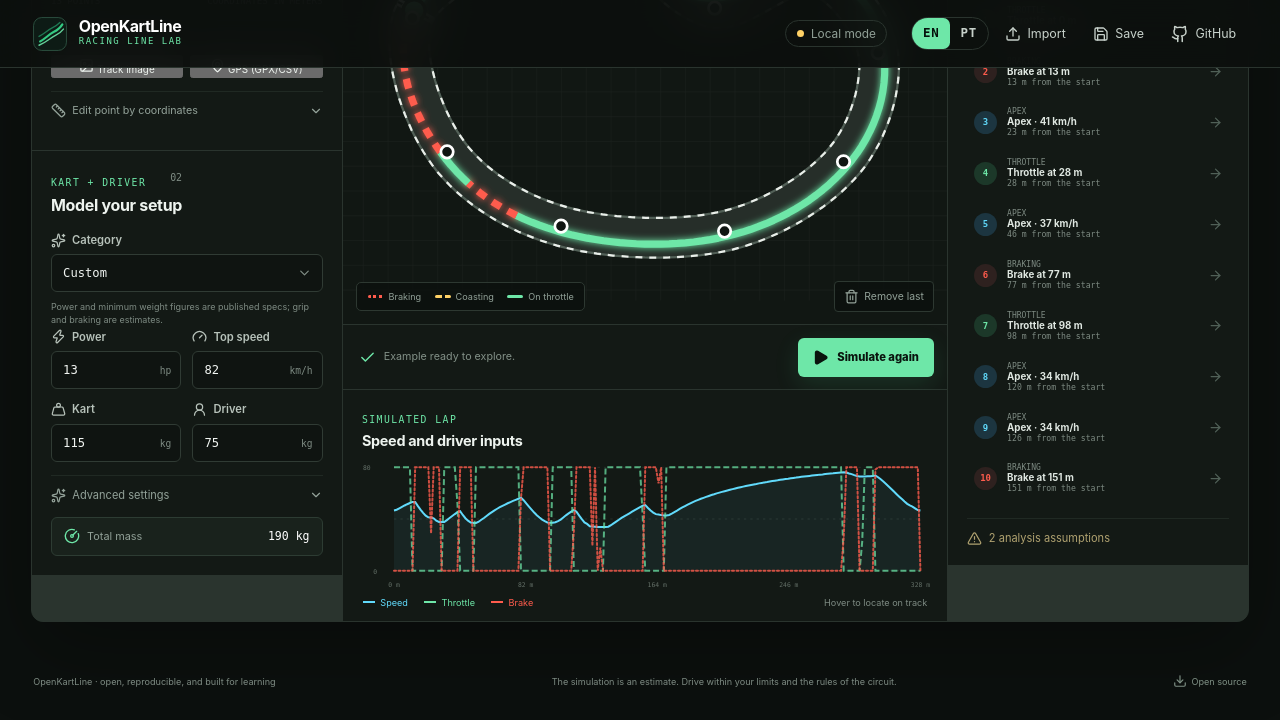
Test: OpenKartLine application › starts with a useful local demo and recalculates edited kart inputs
The width and height of the screenshot is (1280, 720).
(page scrolled)
Check: the text "Local mode" is shown, box x1=785 y1=20 x2=887 y2=47
Replace the text in the number field labelled "Power hp" with "20" at (116, 370), box x1=51 y1=351 x2=181 y2=389
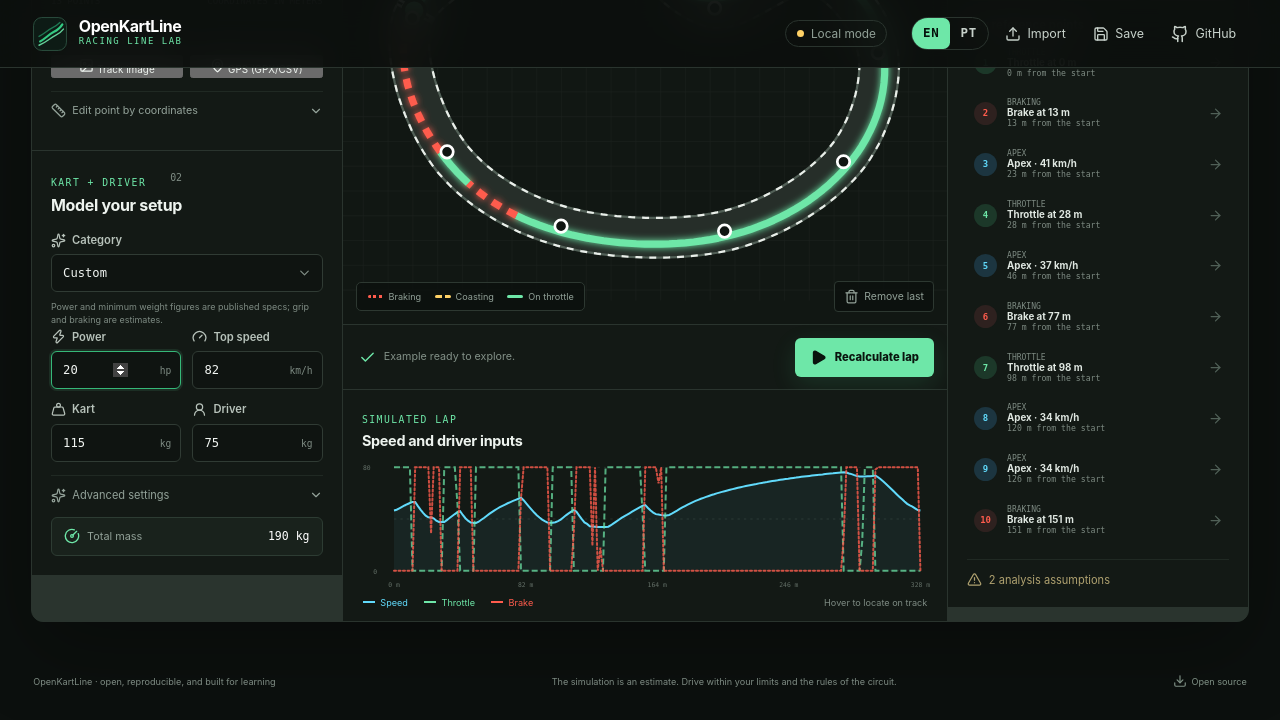
Click the button "Recalculate lap" at (864, 357), box x1=795 y1=338 x2=934 y2=377
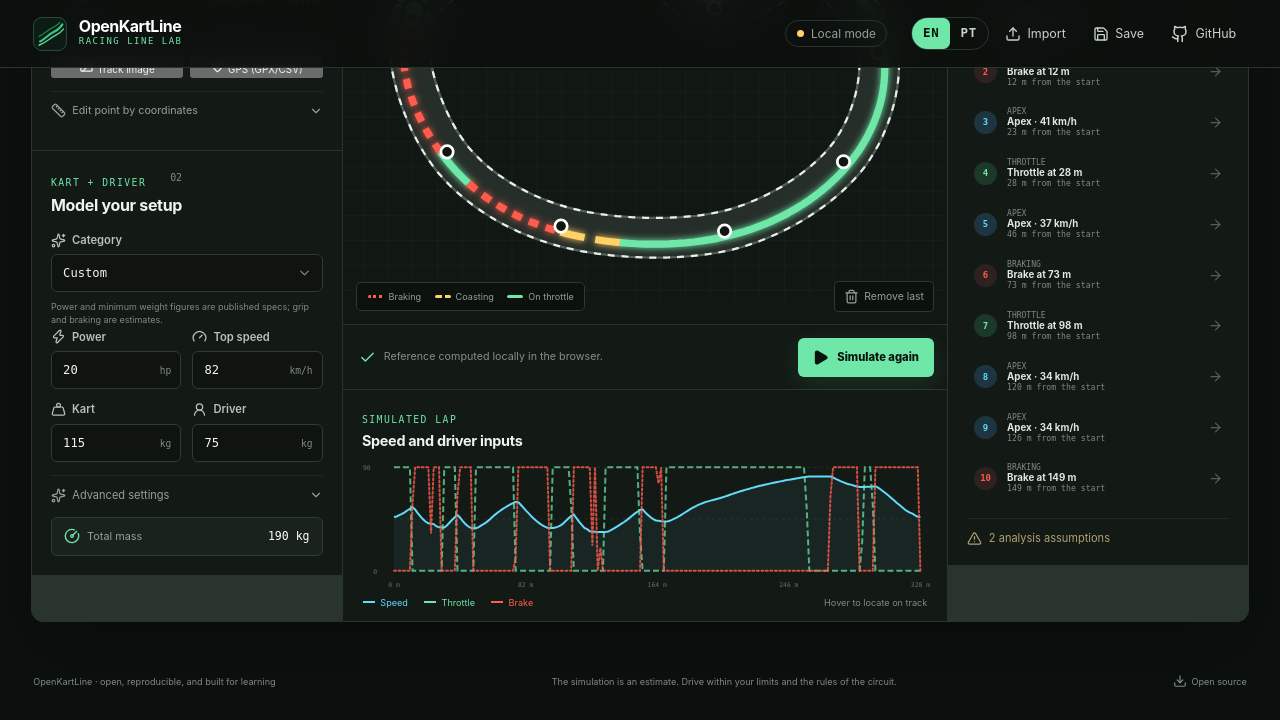
Check: the text "Reference computed locally in the browser." is shown, box x1=359 y1=349 x2=603 y2=366
